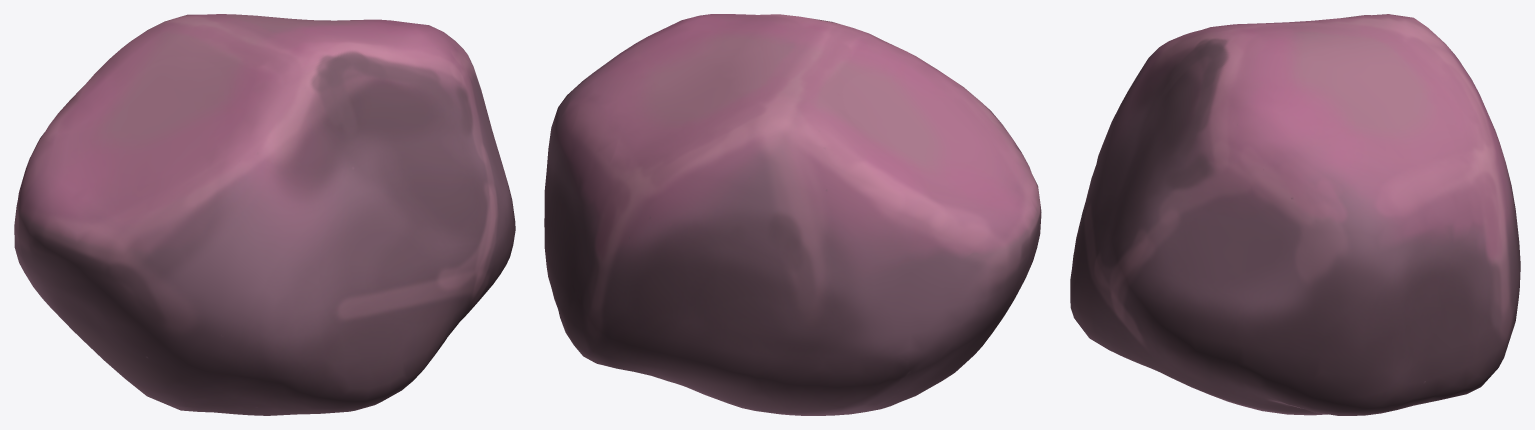
The model's file is small_rock_2.fbx.
The picture shows the model from 3 angles, left to right: view 1: azimuth 30°, elevation 25°; view 2: azimuth 150°, elevation 25°; view 3: azimuth 270°, elevation 25°; orthographic projection. The views are drawn at different scales.
Visible parts, largest first — view 1: Icosphere; view 2: Icosphere; view 3: Icosphere.
Part boxes in pixels (<box>): Icosphere: <box>14,14,515,415</box>; Icosphere: <box>544,14,1041,415</box>; Icosphere: <box>1070,14,1520,415</box>.
Bounding box in the file's own units: 2.14 × 1.56 × 1.74.
